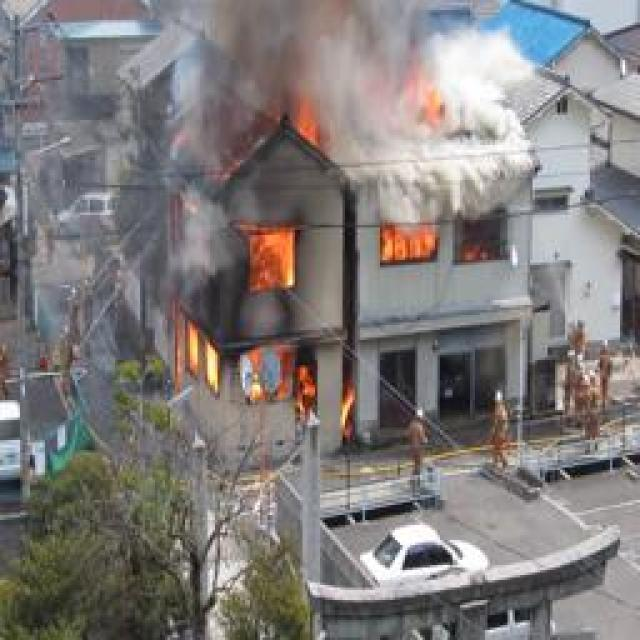Fire: (157, 80, 361, 445), (380, 228, 441, 266)
